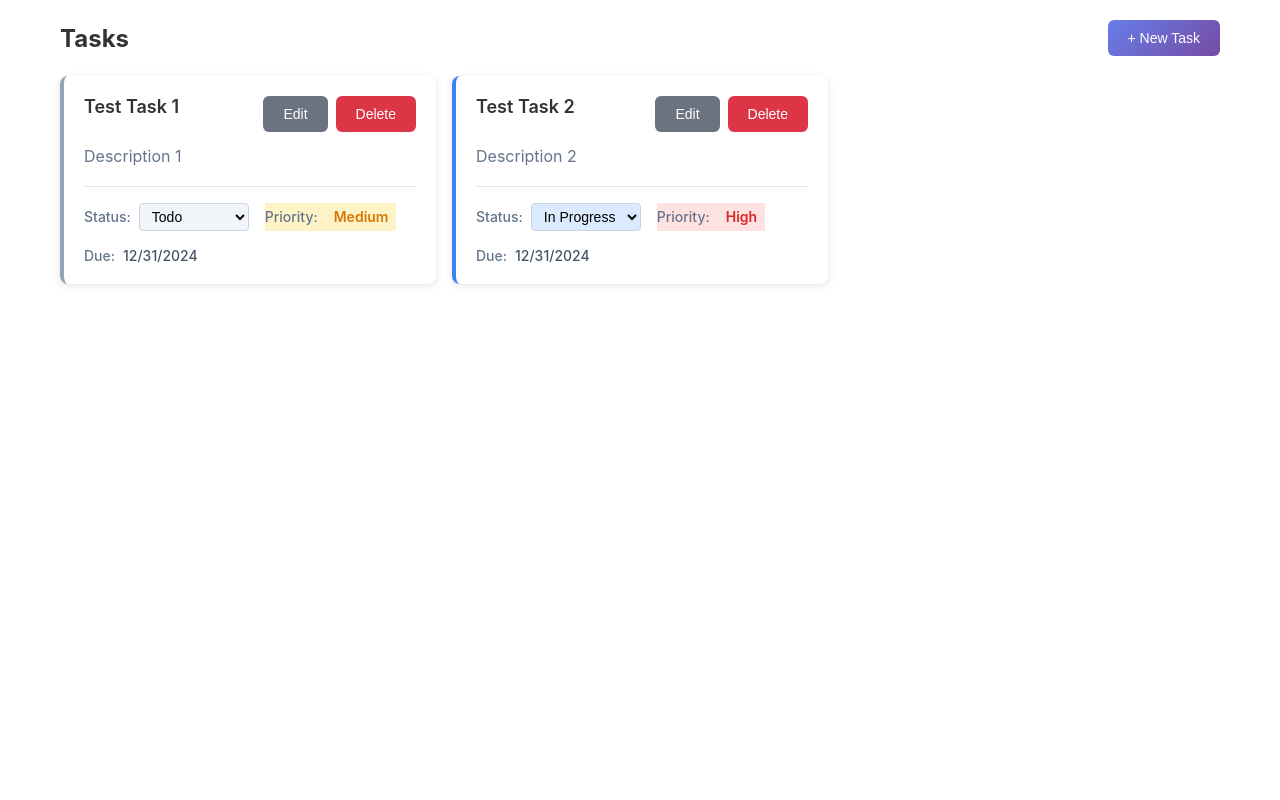
Test: TaskList › cancels form
Expected: the heading "Tasks" is shown, [60, 24, 129, 52]
// Open form
Click the button "+ New Task" at (1164,38), box [1108, 20, 1220, 56]
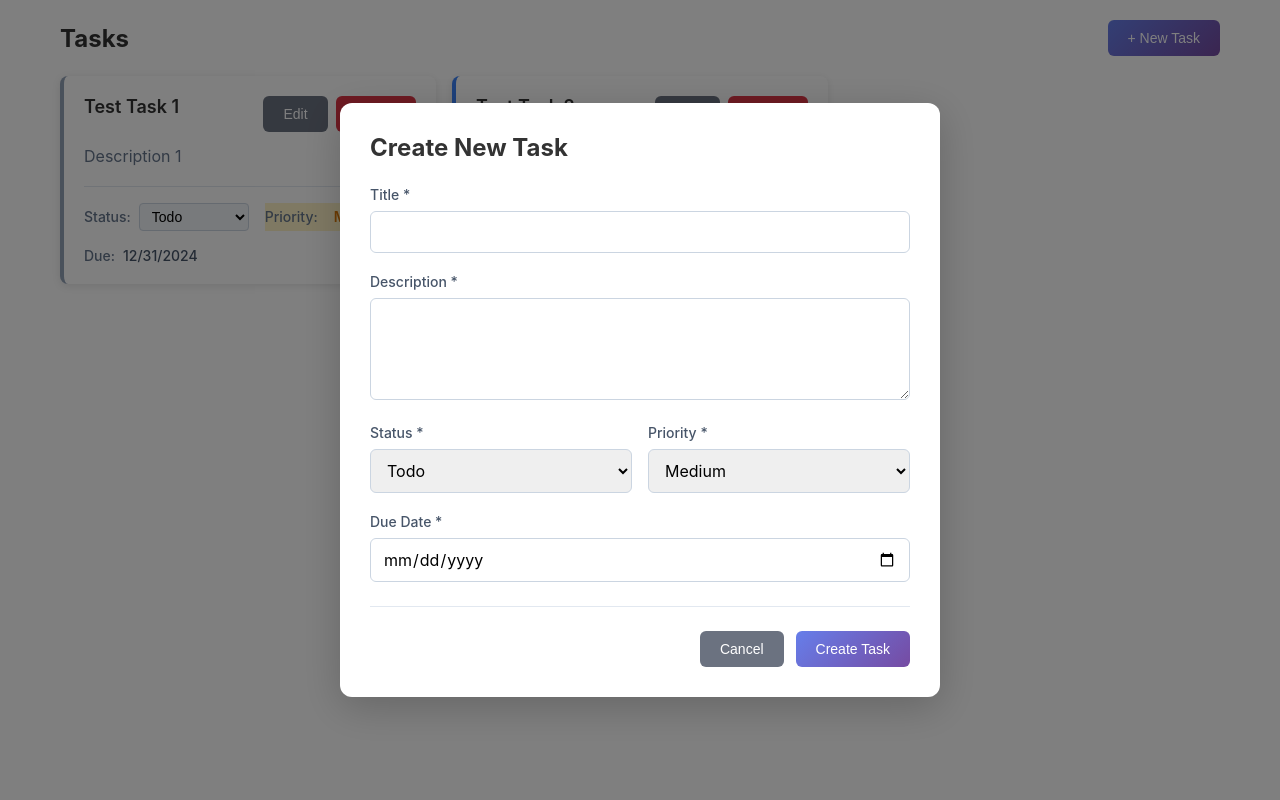
Now the heading "Create New Task" is shown, box [370, 133, 568, 162]
// Cancel form
Click the button "Cancel" at (742,649), box [700, 631, 784, 667]
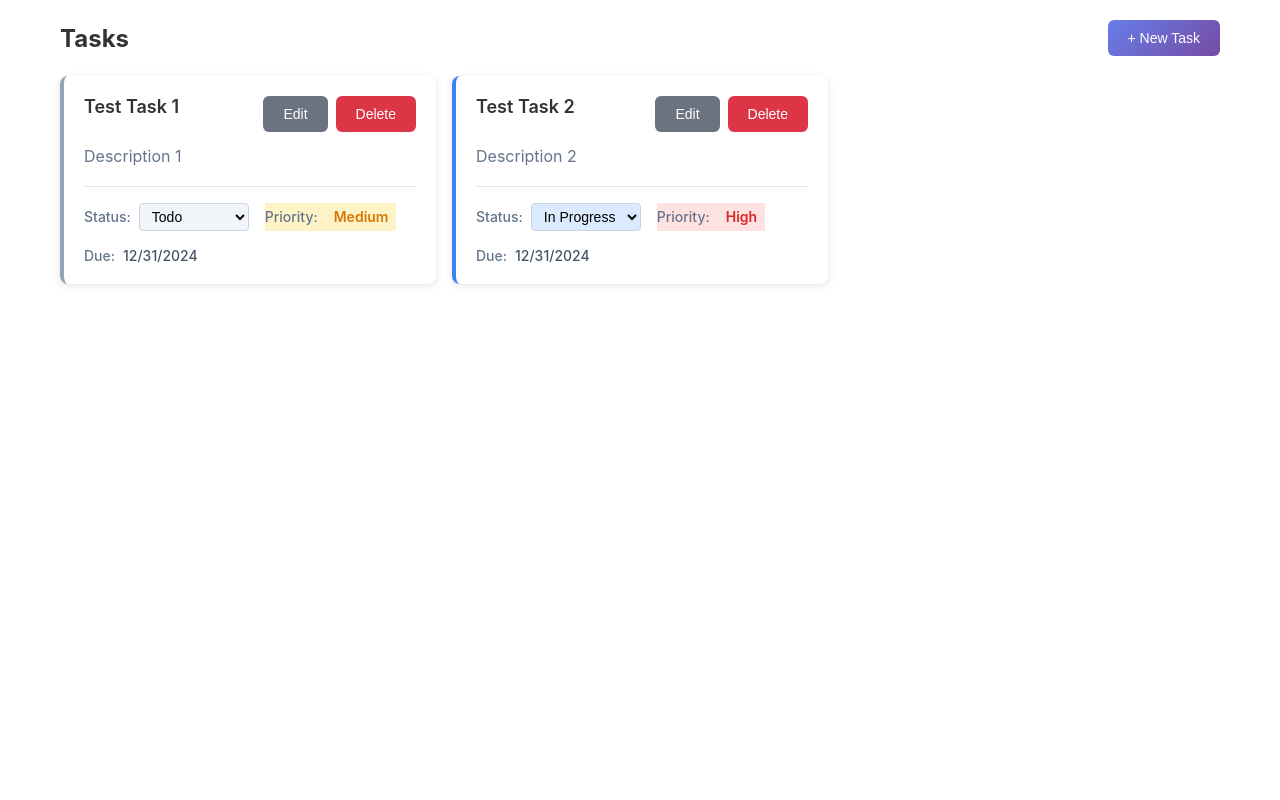
Now the heading "Create New Task" is gone
